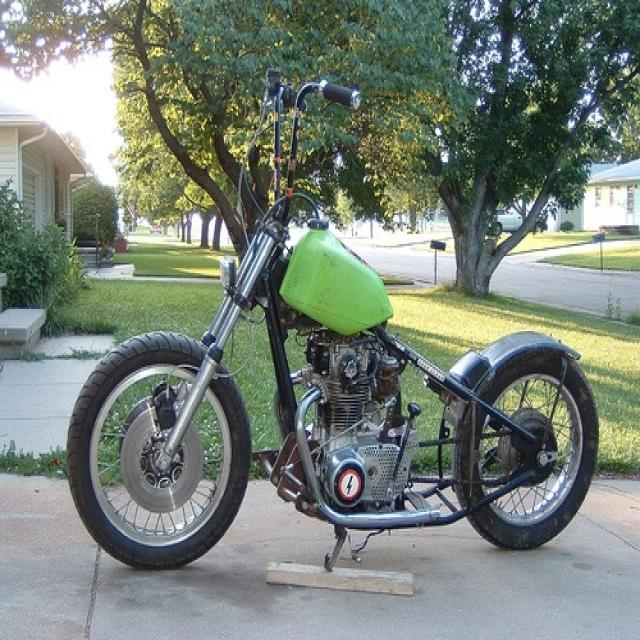motorbike: (68, 65, 603, 582)
